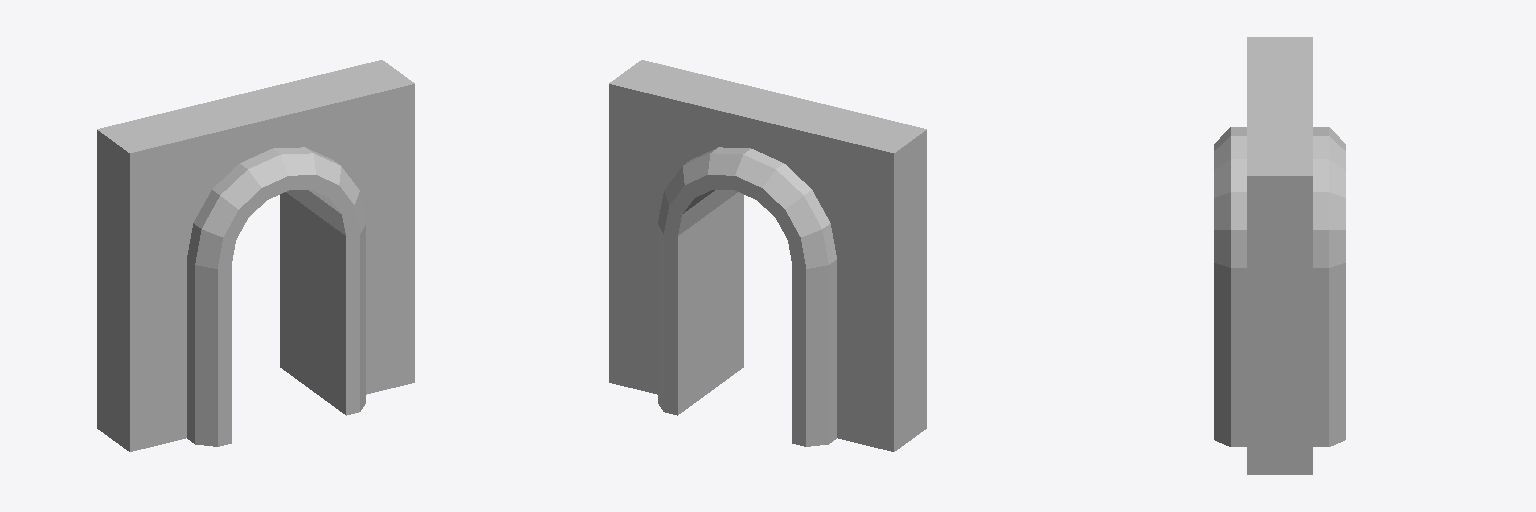
The model's file is 2_door.obj.
The picture shows the model from 3 angles: view 1: azimuth 30°, elevation 25°; view 2: azimuth 150°, elevation 25°; view 3: azimuth 270°, elevation 25°; orthographic projection.
Parts seen in each view (by area): view 1: object1, object2; view 2: object1, object2; view 3: object1, object2.
Part boxes in pixels (left/top/right/bottom): object1: left=97, top=60, right=414, bottom=451; object2: left=187, top=147, right=365, bottom=446; object1: left=609, top=60, right=926, bottom=451; object2: left=658, top=147, right=836, bottom=446; object1: left=1247, top=37, right=1312, bottom=474; object2: left=1214, top=127, right=1345, bottom=446.
Size of the model in its own units: 1 by 1 by 0.4.